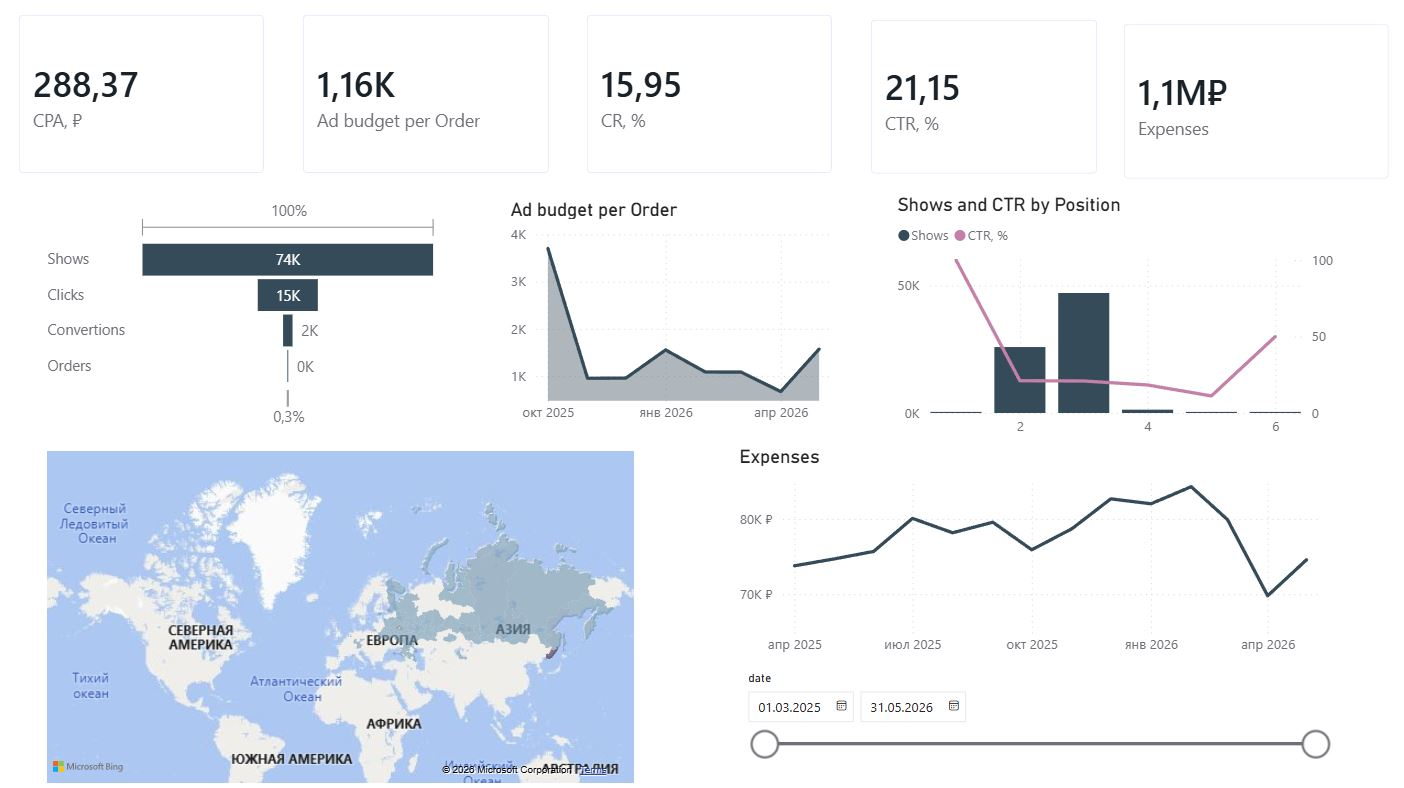

The page's visual inventory and layout, read from the dashboard file:
{"tool":"powerbi","page":{"name":"Ad Analysis","canvas":[1280,720],"ordinal":2},"visuals":[{"type":"funnel","fields":{"Y":["Sum(Direct.Shows)","Sum(Direct.Clicks)","Sum(Direct.Convertions)","public fact_metrica_goals.AdTraffic_Conversions_Relative"]},"box":[37.8,178.9,365.6,217.8],"z":0},{"type":"slicer","fields":{"Values":["public date_con.date"]},"box":[667.1,608.4,550.5,112.1],"z":1000},{"type":"filledMap","fields":{"Category":["public fact_metrica_main.region_area"]},"box":[37.8,408.9,543.3,311.1],"z":2000},{"type":"cardVisual","fields":{"Data":["Avg(Direct.CPA, ₽)"]},"box":[0,0,257.8,178.9],"z":3000},{"type":"cardVisual","fields":{"Data":["Avg(Direct.CR, %)"]},"box":[516.7,0,257.8,178.9],"z":4000},{"type":"cardVisual","fields":{"Data":["Avg(Direct.CTR, %)"]},"box":[774.4,4.4,240,174.4],"z":5000},{"type":"cardVisual","fields":{"Data":["CRM.Expenses"]},"box":[1004.4,7.8,275.6,175.6],"z":6000},{"type":"lineChart","title":"Expenses","fields":{"Y":["CRM.Expenses"],"Category":["public date_con.month_start.Variation.Date Hierarchy.Year","public date_con.month_start.Variation.Date Hierarchy.Month","public date_con.month_start.Variation.Date Hierarchy.Day"]},"box":[667.1,408.6,550.5,199.8],"z":7000},{"type":"lineClusteredColumnComboChart","title":"Shows and CTR by Position","fields":{"Y":["Sum(Direct.Shows)"],"Category":["Direct.Position_Normalized"],"Y2":["Avg(Direct.CTR, %)"]},"box":[811.1,178.9,406.7,230],"z":8000},{"type":"lineChart","title":"Ad budget per Order","fields":{"Y":["Direct.Ad budget per Order"],"Category":["public date_con.month_start.Variation.Date Hierarchy.Year","public date_con.month_start.Variation.Date Hierarchy.Month","public date_con.month_start.Variation.Date Hierarchy.Day"]},"box":[458.9,183.3,315.6,213.3],"z":8006},{"type":"cardVisual","fields":{"Data":["Direct.Ad budget per Order"]},"box":[257.8,0,258.9,178.9],"z":8007}]}

Visuals, with their boxes in screenshot pixels (x1, y1, x2, y2), scaled from the page's 1280x720 canvas onto the 1404x788 screenshot:
funnel - Sum(Direct.Shows) x Sum(Direct.Clicks): bbox(41, 196, 442, 434)
slicer - public date_con.date: bbox(732, 666, 1336, 787)
filledMap - public fact_metrica_main.region_area: bbox(41, 448, 637, 787)
cardVisual - Avg(Direct.CPA, ₽): bbox(0, 0, 283, 196)
cardVisual - Avg(Direct.CR, %): bbox(567, 0, 850, 196)
cardVisual - Avg(Direct.CTR, %): bbox(849, 5, 1113, 196)
cardVisual - CRM.Expenses: bbox(1102, 9, 1403, 201)
"Expenses" lineChart: bbox(732, 447, 1336, 666)
"Shows and CTR by Position" lineClusteredColumnComboChart: bbox(890, 196, 1336, 448)
"Ad budget per Order" lineChart: bbox(503, 201, 850, 434)
cardVisual - Direct.Ad budget per Order: bbox(283, 0, 567, 196)
